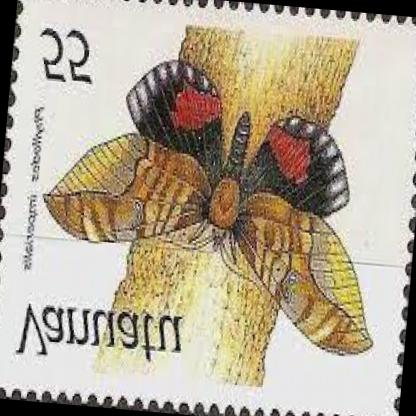fruit sucking moth: (42, 59, 373, 353)
